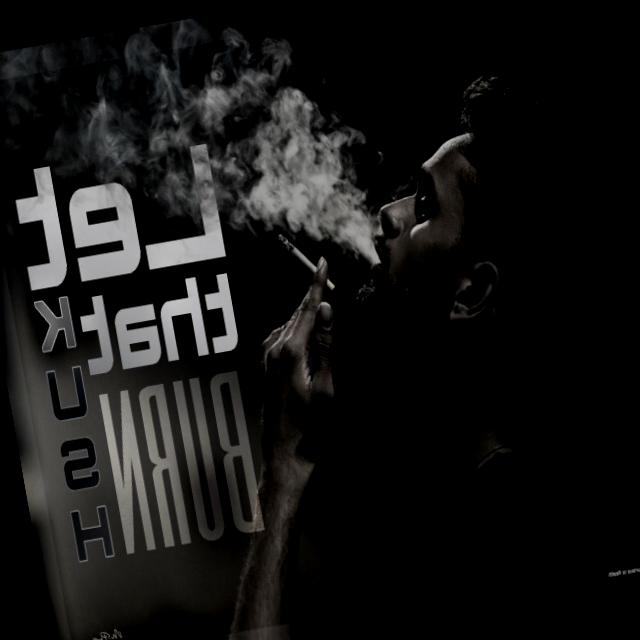smoke: (252, 200, 358, 334)
